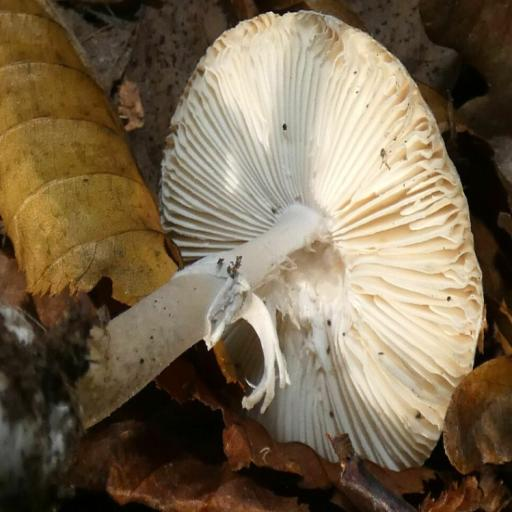Death Cap: (82, 1, 493, 455)
